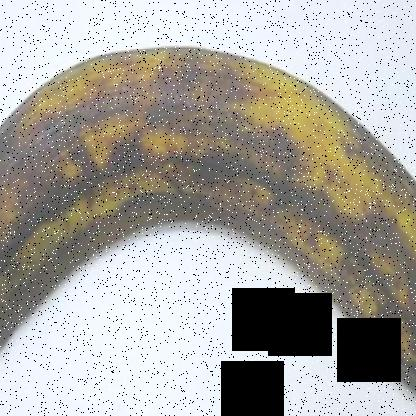overripe: (0, 28, 415, 403)
